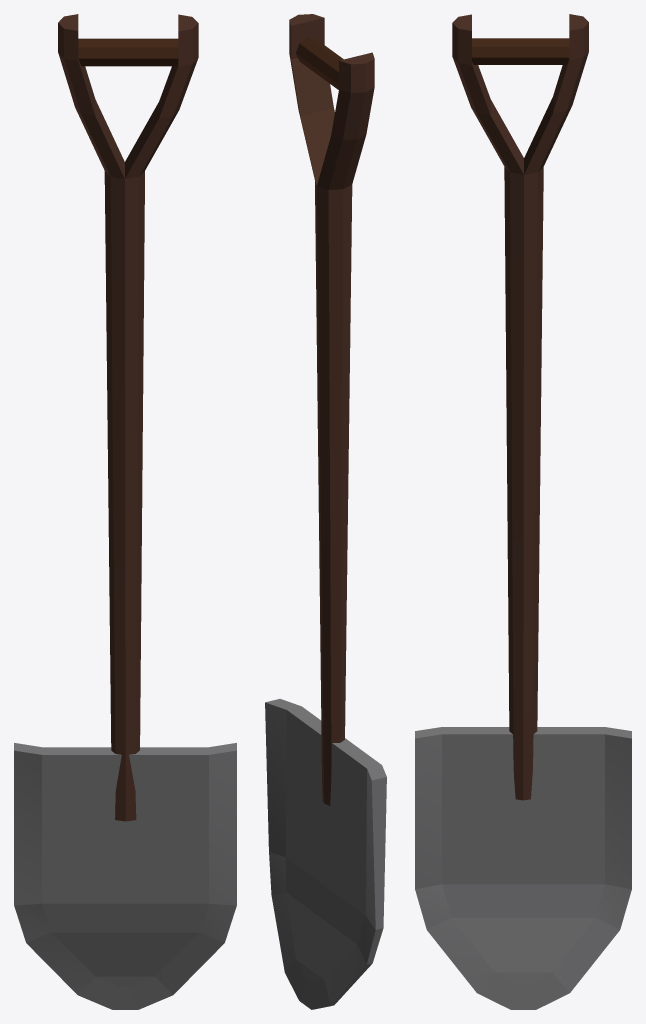
The model's file is Shovel.FBX.
3 renders of one model, left to right at view 1: azimuth 90°, elevation 25°; view 2: azimuth 210°, elevation 25°; view 3: azimuth 270°, elevation 25°, orthographic. The views are drawn at different scales.
Parts seen in each view (by area): view 1: Cylinder002; view 2: Cylinder002; view 3: Cylinder002.
Part boxes in pixels (x1=…): Cylinder002: x1=14, y1=14, x2=236, y2=1009; Cylinder002: x1=265, y1=14, x2=386, y2=1009; Cylinder002: x1=415, y1=14, x2=631, y2=1009.
Bounding box in the file's own units: 6.28 × 129 × 25.98.
